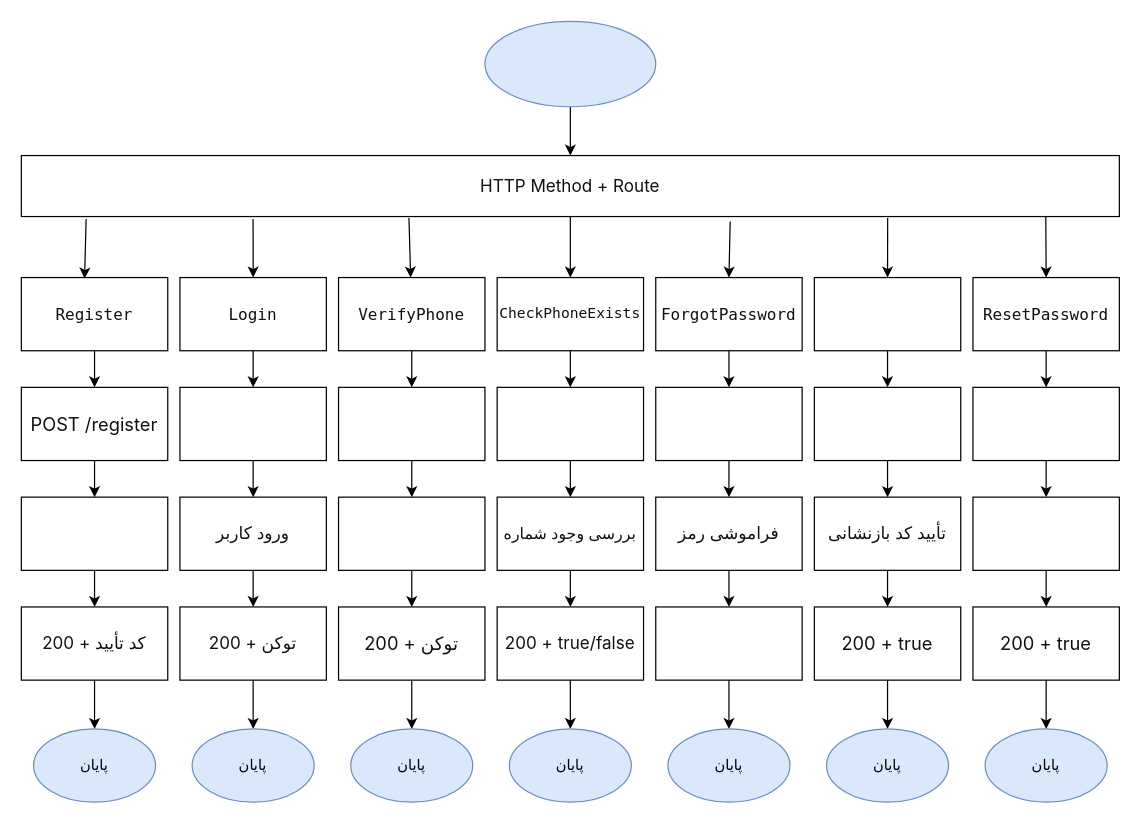
This 1141x824 diagram has some shape labels left out. The shapes that lost their labels are listed below. From the top down, each one's centre as x and y in pixels, then its label:
At (x=570, y=63): "AuthController شروع درخواست به".
At (x=887, y=313): "VerifyResetCode".
At (x=252, y=423): "POST /login".
At (x=411, y=423): "POST /verify-phone".
At (x=570, y=423): "GET /check-phone/{phone}".
At (x=728, y=423): "POST /forgot-password".
At (x=887, y=423): "POST /verify-reset-code".
At (x=1045, y=423): "POST /reset-password".
At (x=94, y=533): "ثبت‌نام کاربر جدید".
At (x=411, y=533): "تأیید شماره موبایل".
At (x=1045, y=533): "بازنشانی رمز".
At (x=728, y=643): "200 + کد بازنشانی".
